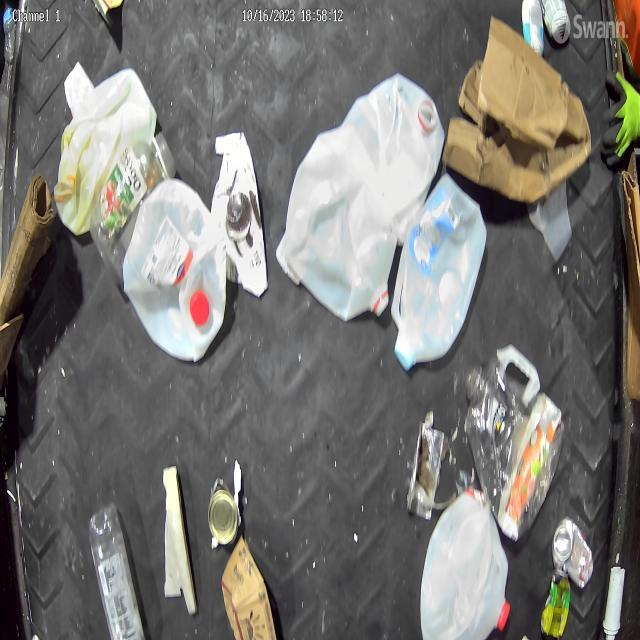can: (407, 420, 445, 521), (552, 514, 594, 588), (207, 477, 240, 548), (541, 571, 572, 640), (522, 0, 545, 55)
milk_jug: (286, 121, 396, 322), (390, 170, 487, 370), (122, 181, 225, 361), (54, 62, 157, 234), (345, 72, 446, 243), (419, 487, 509, 640)
non_white_jug: (462, 340, 566, 540)
plastic_bottle: (89, 133, 177, 284), (88, 500, 146, 640), (2, 0, 16, 62)
